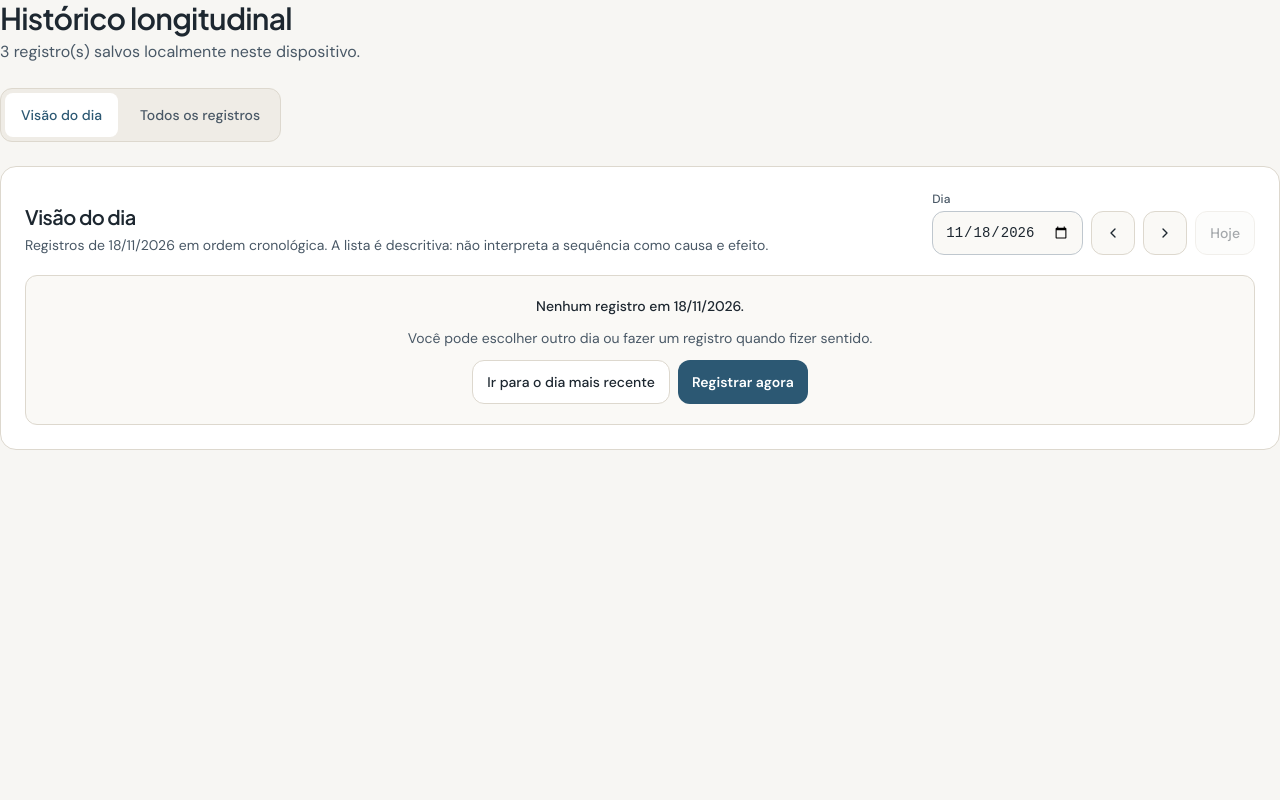
Scenario: HistoryView — semântica de ação e impulso › identifica ação realizada, impulso contido e dado sem classificação
Click the button "Todos os registros" at (200, 115), box [124,93,276,137]
(page scrolled)
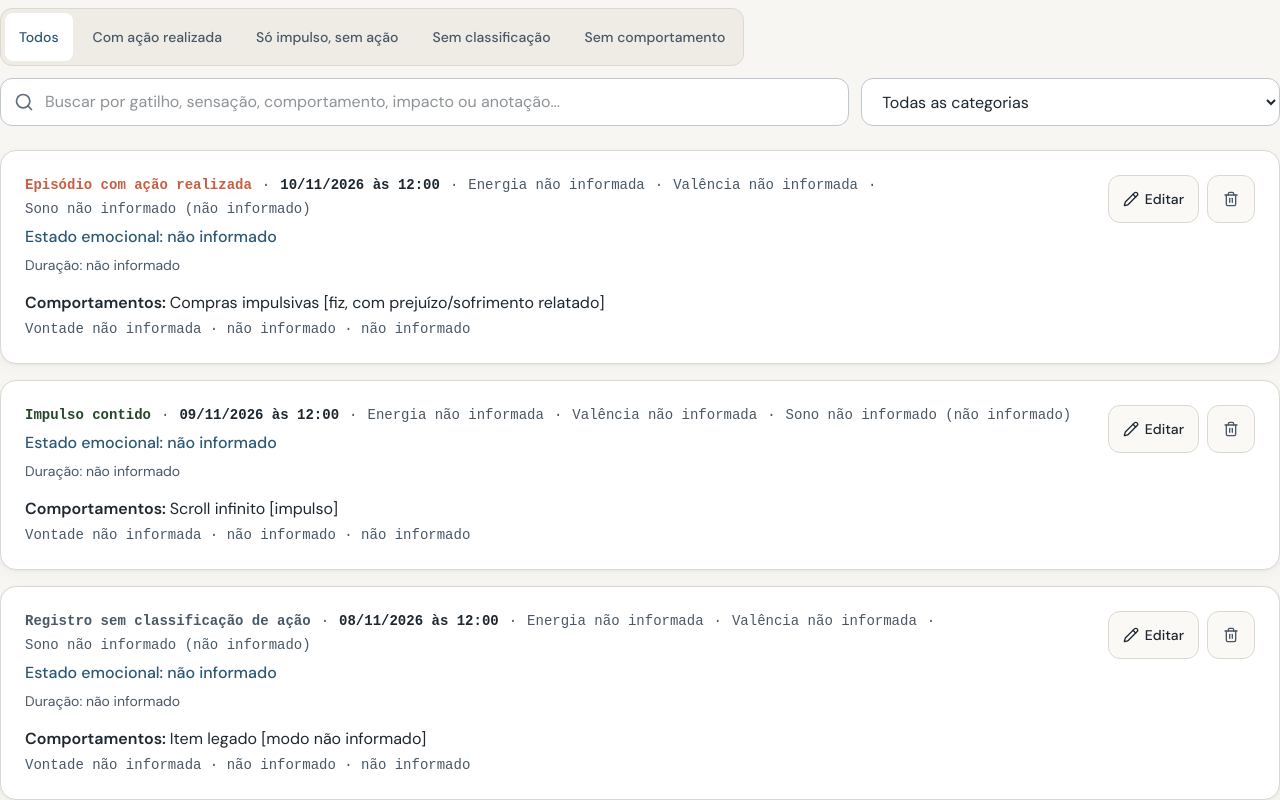
Expected: the text "Episódio com ação realizada" is shown, [25,175,252,195]
Expected: the text "Impulso contido" is shown, [25,405,151,425]
Expected: the text "Registro sem classificação de ação" is shown, [25,611,311,631]
